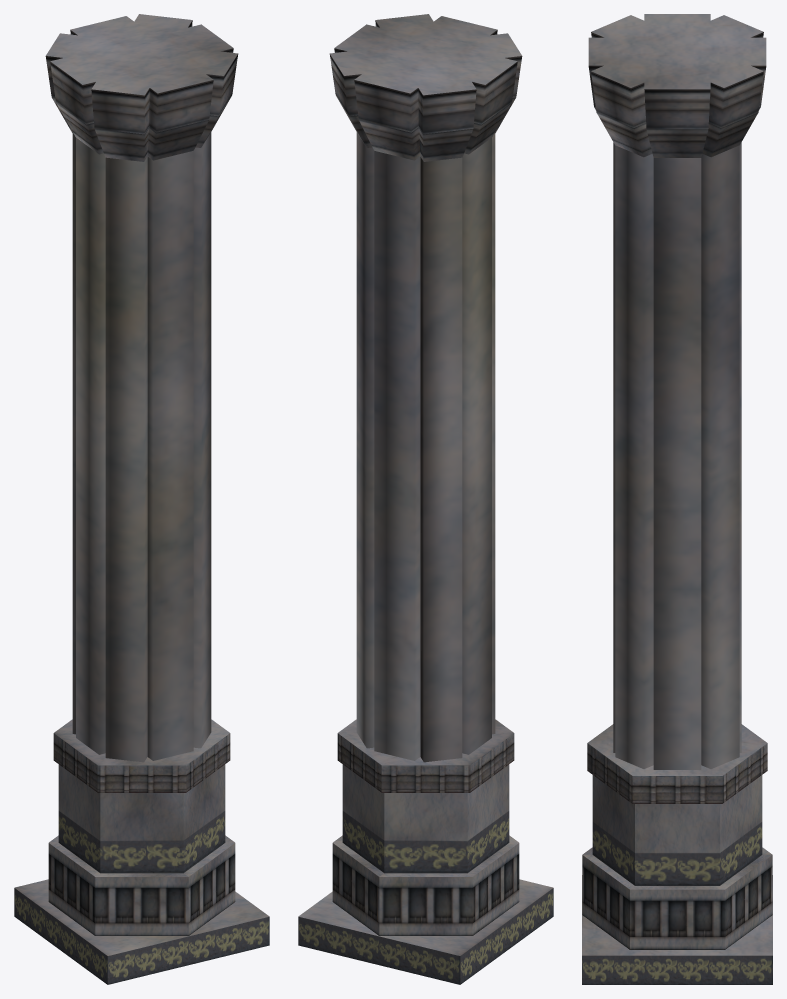
Rendered from column_small_01.fbx.
The picture shows the model from 3 angles, left to right: view 1: azimuth 30°, elevation 25°; view 2: azimuth 150°, elevation 25°; view 3: azimuth 270°, elevation 25°; orthographic projection.
Parts seen in each view (by area): view 1: column_small_01; view 2: column_small_01; view 3: column_small_01.
Part boxes in pixels (x1=…): column_small_01: x1=14, y1=14, x2=269, y2=984; column_small_01: x1=298, y1=14, x2=553, y2=984; column_small_01: x1=582, y1=14, x2=772, y2=984.
Bounding box in the file's own units: 174 × 902 × 174.
